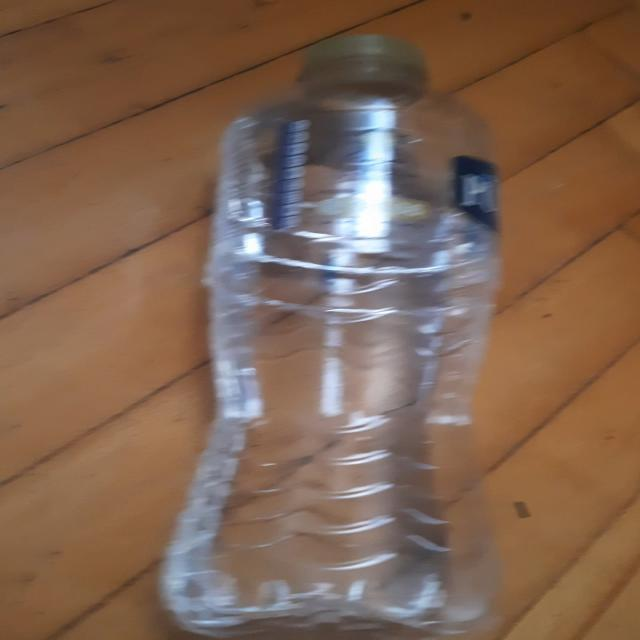Plastic: (156, 34, 503, 640)
